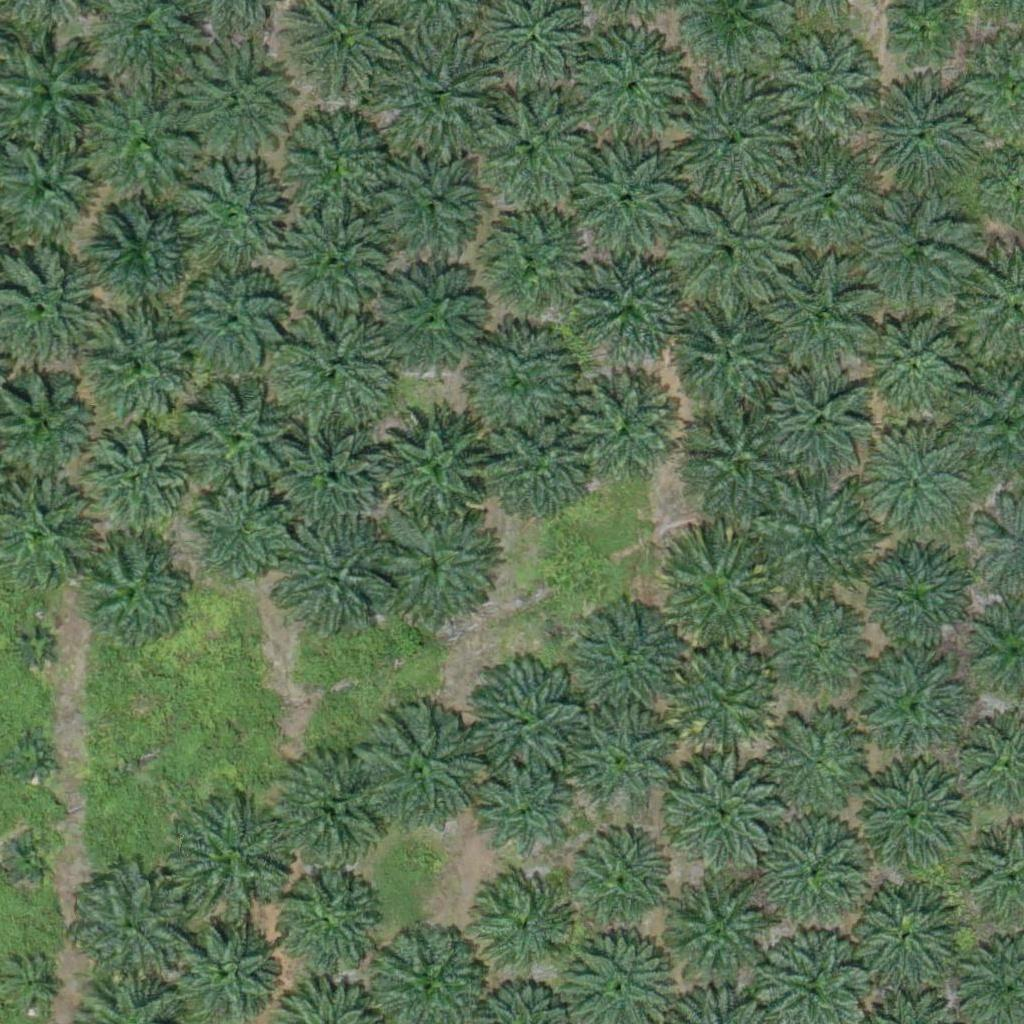Kelapa_Sawit: (73, 78, 198, 204), (167, 160, 292, 286), (170, 37, 295, 163), (172, 380, 297, 506), (277, 200, 402, 326), (276, 308, 401, 434), (272, 516, 397, 642), (458, 90, 583, 216), (371, 401, 496, 527), (375, 505, 500, 631), (668, 75, 793, 201), (664, 190, 789, 316), (462, 659, 587, 785), (356, 712, 481, 838), (173, 797, 298, 923), (277, 106, 402, 231), (463, 201, 588, 326), (452, 319, 577, 444), (655, 534, 780, 659), (73, 417, 186, 531), (85, 310, 198, 424), (186, 479, 299, 593), (769, 141, 882, 255), (766, 34, 879, 148), (275, 751, 388, 865), (77, 536, 190, 649), (88, 198, 201, 311), (372, 264, 485, 377), (373, 150, 486, 263), (386, 35, 499, 148), (478, 409, 591, 522), (765, 366, 878, 479), (762, 262, 875, 375), (861, 546, 974, 659), (851, 757, 964, 870), (669, 753, 782, 866), (666, 880, 779, 993), (861, 82, 973, 196), (863, 196, 975, 310), (178, 268, 290, 381), (270, 424, 382, 537), (569, 372, 681, 485), (576, 247, 688, 360), (568, 144, 680, 257), (573, 34, 685, 147), (673, 304, 785, 417), (680, 402, 792, 515), (762, 489, 874, 602), (847, 878, 959, 991), (760, 705, 872, 818), (761, 815, 873, 928), (74, 870, 186, 983), (869, 431, 969, 532), (864, 655, 964, 756), (767, 598, 867, 699), (673, 648, 773, 749), (583, 610, 683, 711), (571, 708, 671, 809), (567, 829, 667, 930), (473, 761, 573, 862), (176, 920, 276, 1021), (862, 314, 962, 414), (471, 876, 571, 976), (275, 869, 375, 969), (6, 959, 56, 1010), (6, 832, 56, 882), (9, 622, 59, 672), (5, 733, 55, 783)
